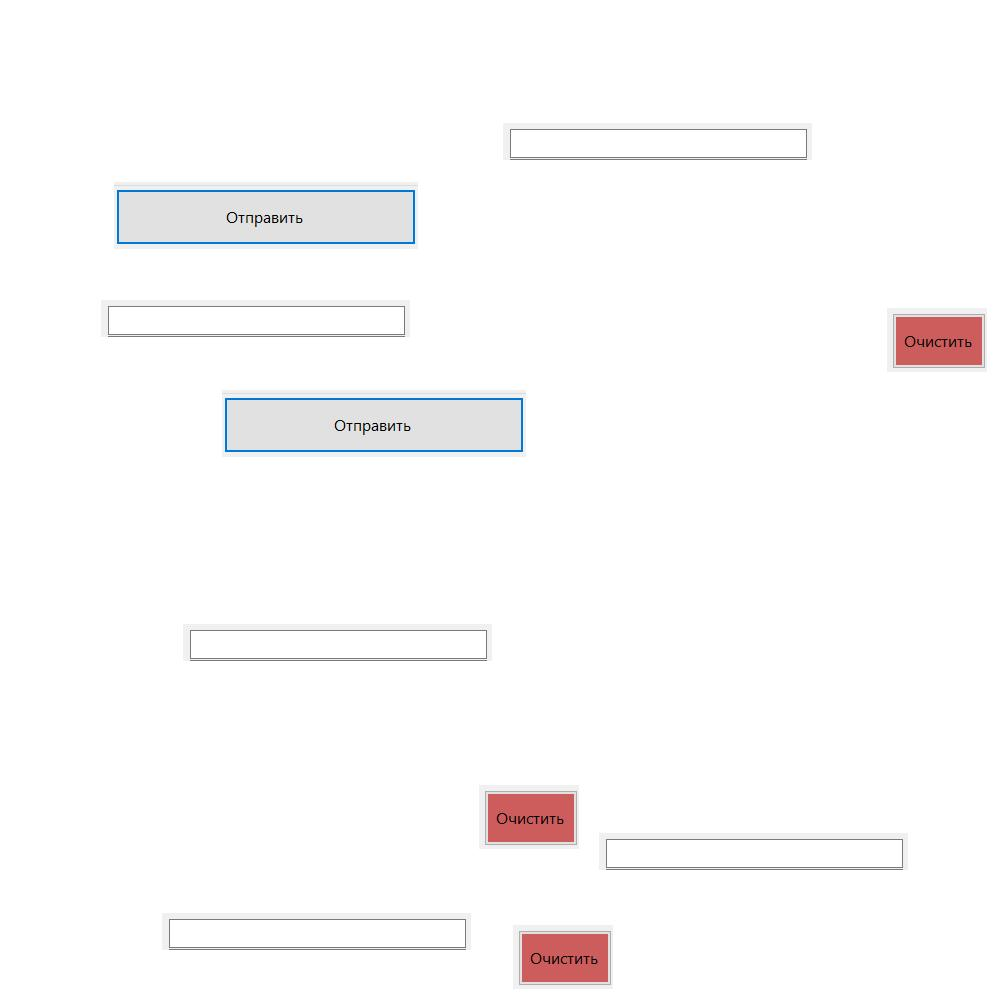Button: (114, 182, 418, 249), (222, 390, 526, 457), (479, 785, 579, 849), (513, 925, 613, 989), (887, 308, 987, 372)
EditText-: (101, 300, 410, 337), (599, 833, 908, 870), (503, 123, 812, 160), (183, 624, 492, 661), (162, 913, 471, 950)
